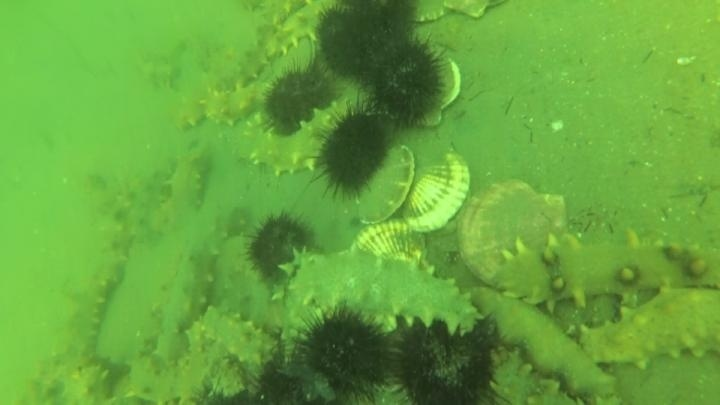echinus: (291, 302, 396, 403), (386, 319, 501, 405), (363, 35, 456, 129), (313, 1, 420, 82), (313, 104, 393, 199), (259, 61, 341, 138), (243, 209, 320, 284), (249, 343, 338, 405), (334, 1, 420, 43), (312, 3, 362, 66)
holothurian: (485, 229, 713, 315), (282, 247, 484, 340), (469, 285, 617, 402), (572, 285, 719, 374), (147, 229, 224, 367), (235, 97, 358, 179), (210, 234, 287, 337), (120, 333, 222, 405), (191, 305, 280, 373), (61, 260, 122, 358), (15, 349, 116, 404), (256, 1, 339, 64), (482, 343, 561, 405), (196, 74, 277, 130), (160, 143, 213, 226), (130, 154, 179, 238), (242, 1, 310, 28)
scallop: (455, 176, 572, 289), (390, 144, 474, 238), (354, 144, 418, 227), (351, 220, 434, 278), (416, 51, 465, 129), (403, 1, 454, 27)
